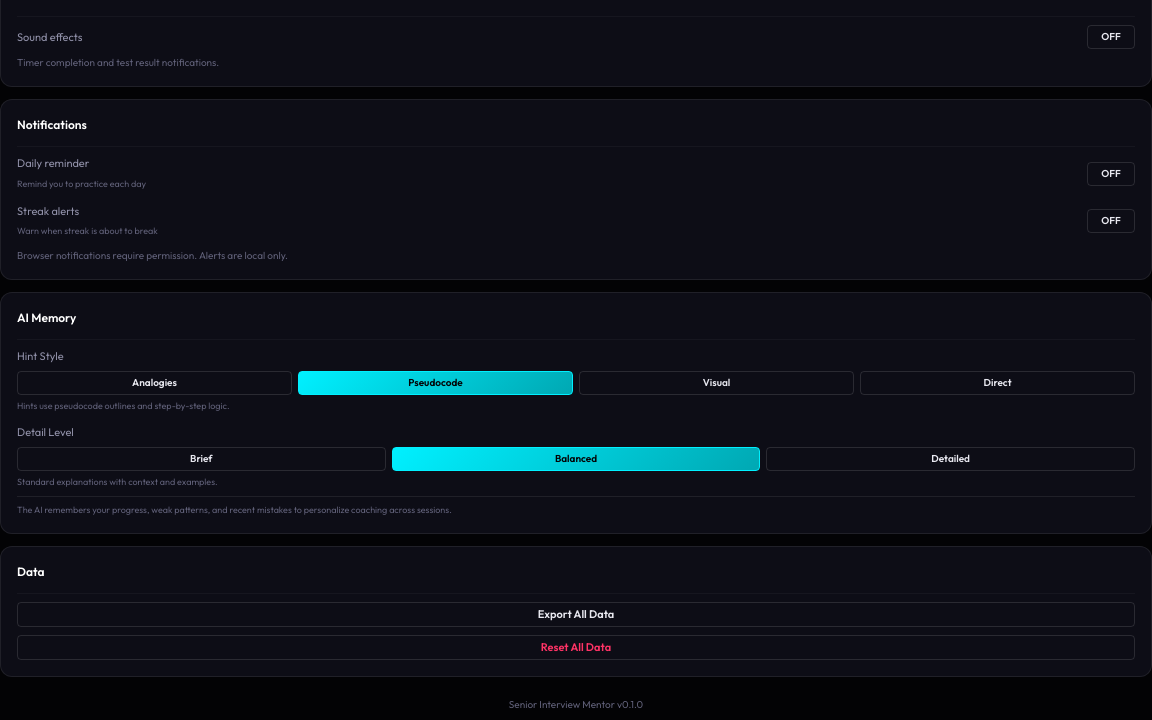
Test: SettingsPanel › Reset All Data modal › Delete Everything button is enabled when input is "RESET"
(page scrolled)
Click the button "Reset All Data".
click(576, 647)  # box [17, 634, 1135, 660]
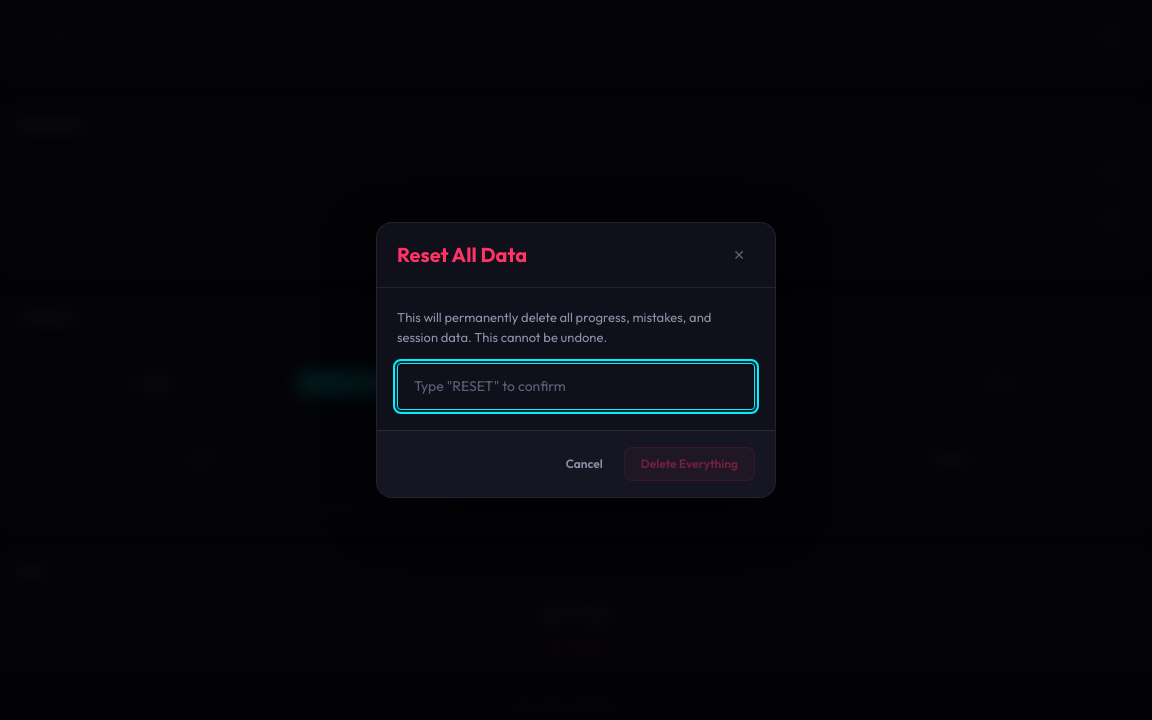
Type "RESET" into the field with placeholder "Type \"RESET\" to confirm".
click(576, 386); type("RESET")  # box [397, 363, 755, 410]
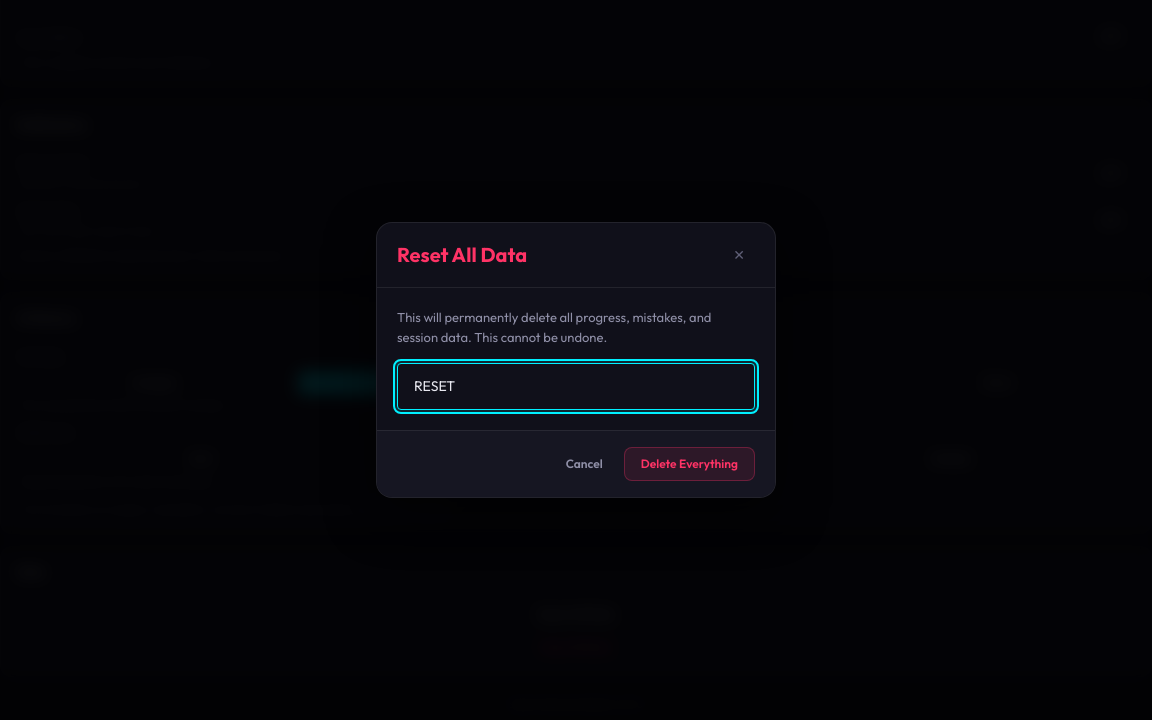
Result: the button "Delete Everything" is enabled at [624, 447, 755, 481]
